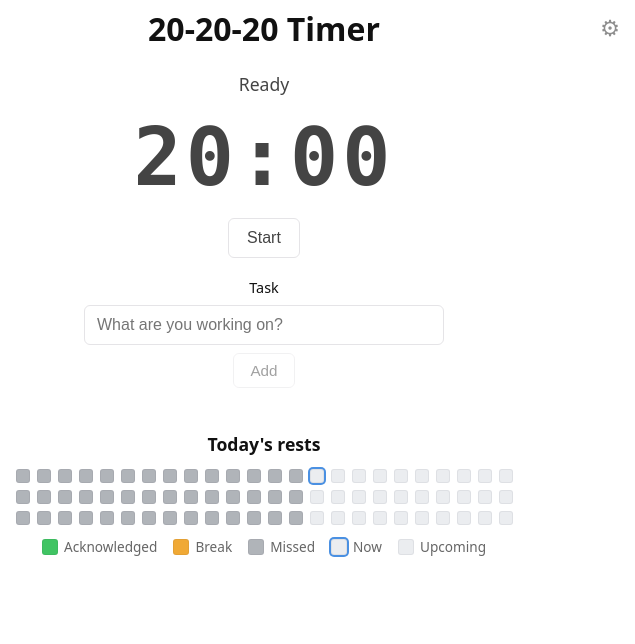
Test: 20-20-20 Timer › edits a task
Type "Old text" into the field with placeholder "What are you working on?" at coordinates (264, 325), box [84,305,444,345]
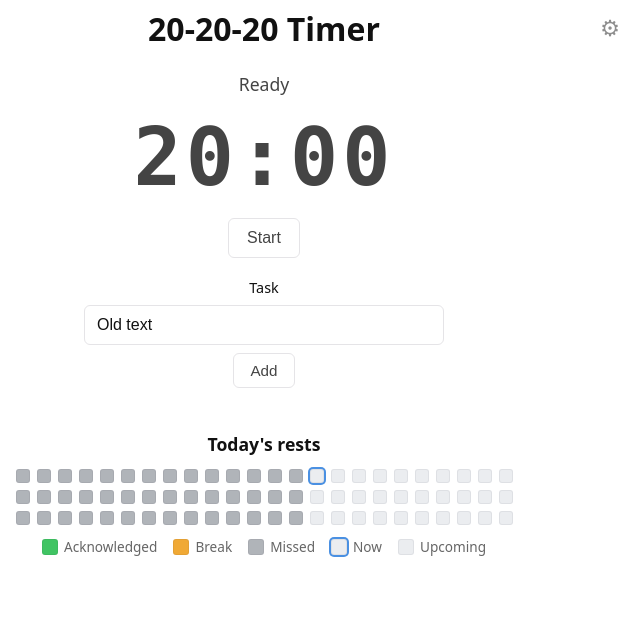
Click the button "Add" at coordinates (264, 370), box [234,353,294,388]
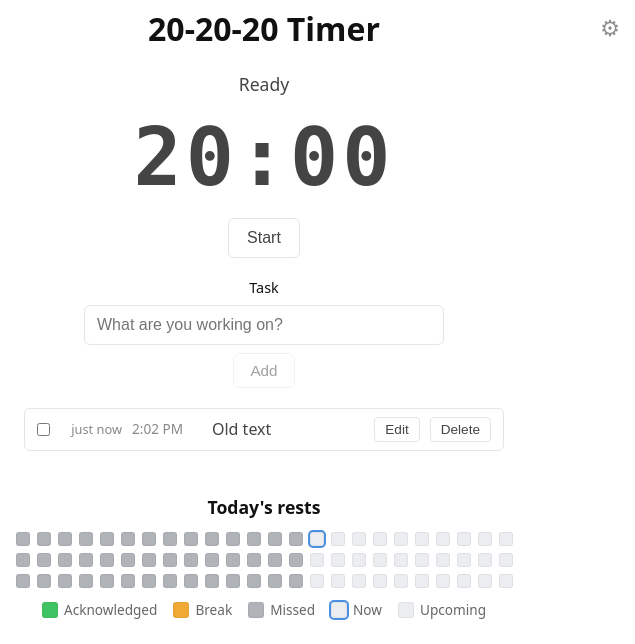
Click the button "Edit" at coordinates (397, 429), box [374,417,420,442]
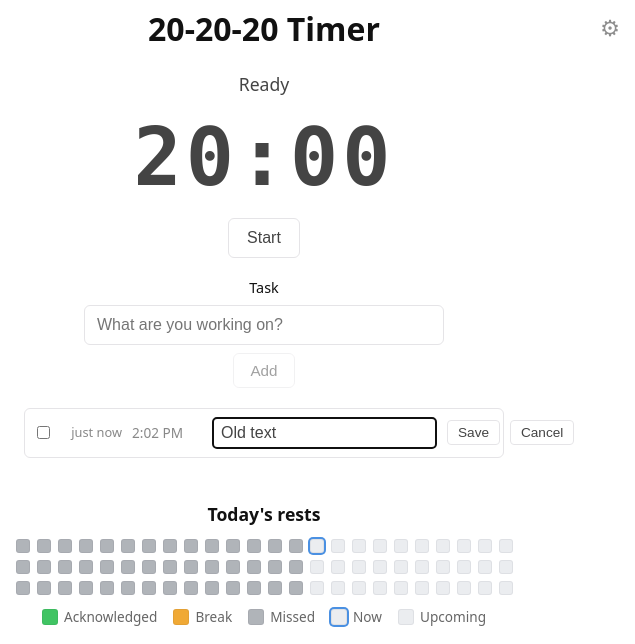
Replace the text in the field showing "Old text" with "New text" at coordinates (324, 433), box [212,417,437,449]
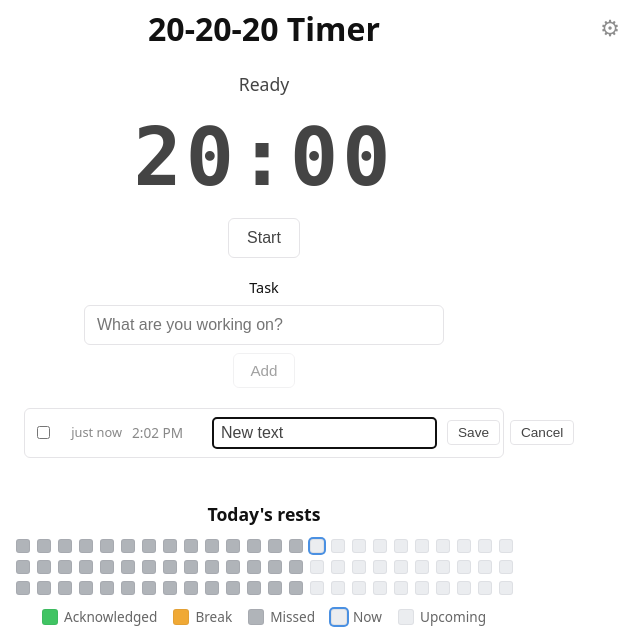
Click the button "Save" at coordinates (474, 433), box [447,420,500,445]
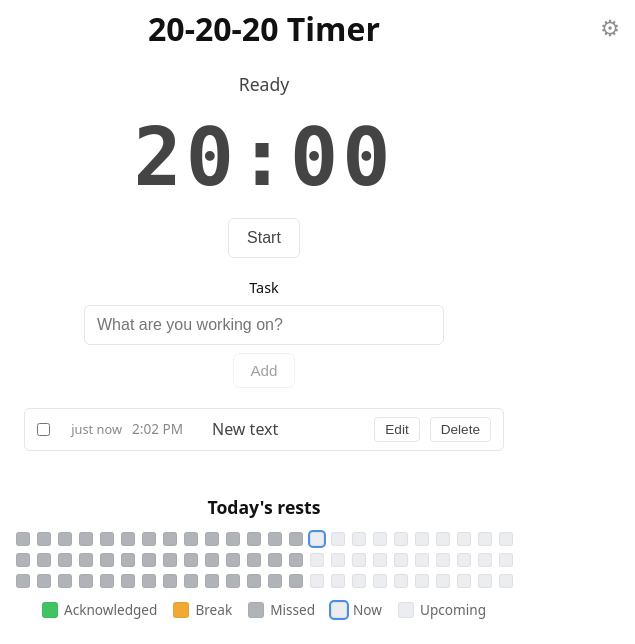
expect the list named "tasks" does not show "Old text": met, box [24,408,504,451]
expect the list named "tasks" shows "New text": met, box [212,418,278,440]
